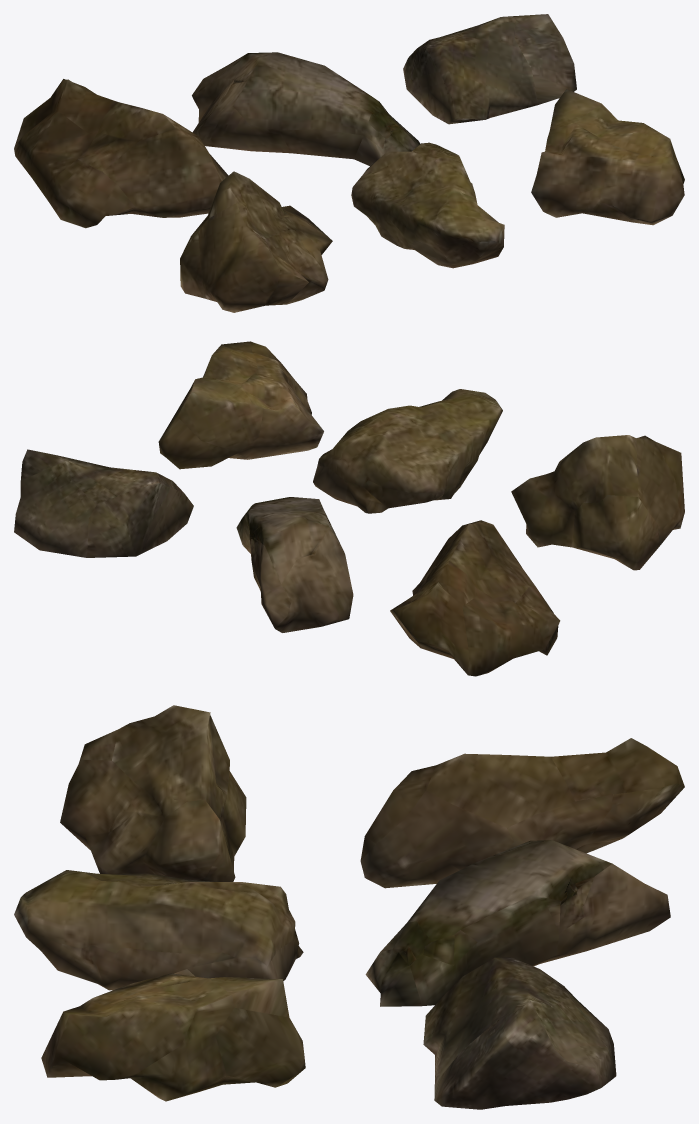
File: rock_moss_set_01.glb
The picture shows the model from 3 angles, top to bottom: view 1: azimuth 30°, elevation 25°; view 2: azimuth 150°, elevation 25°; view 3: azimuth 270°, elevation 25°; orthographic projection. The views are drawn at different scales.
Visible parts, largest first — view 1: rock_moss_set_01_rock01, rock_moss_set_01_rock02, rock_moss_set_01_rock06, rock_moss_set_01_rock04, rock_moss_set_01_rock03, rock_moss_set_01_rock05; view 2: rock_moss_set_01_rock04, rock_moss_set_01_rock01, rock_moss_set_01_rock05, rock_moss_set_01_rock03, rock_moss_set_01_rock06, rock_moss_set_01_rock02; view 3: rock_moss_set_01_rock01, rock_moss_set_01_rock02, rock_moss_set_01_rock05, rock_moss_set_01_rock06, rock_moss_set_01_rock04, rock_moss_set_01_rock03.
Boxes of the visible parts, <box> form: rock_moss_set_01_rock01: <box>14,79,228,228</box>; rock_moss_set_01_rock02: <box>192,52,420,165</box>; rock_moss_set_01_rock06: <box>531,89,684,225</box>; rock_moss_set_01_rock04: <box>180,171,332,312</box>; rock_moss_set_01_rock03: <box>403,14,576,124</box>; rock_moss_set_01_rock05: <box>351,142,504,268</box>; rock_moss_set_01_rock04: <box>511,435,684,570</box>; rock_moss_set_01_rock01: <box>390,520,560,676</box>; rock_moss_set_01_rock05: <box>313,389,502,513</box>; rock_moss_set_01_rock03: <box>14,449,193,557</box>; rock_moss_set_01_rock06: <box>158,341,323,469</box>; rock_moss_set_01_rock02: <box>236,497,353,632</box>; rock_moss_set_01_rock01: <box>360,738,684,888</box>; rock_moss_set_01_rock02: <box>365,840,670,1006</box>; rock_moss_set_01_rock05: <box>14,870,303,990</box>; rock_moss_set_01_rock06: <box>41,969,305,1101</box>; rock_moss_set_01_rock04: <box>60,705,246,881</box>; rock_moss_set_01_rock03: <box>423,957,616,1109</box>.
Bounding box in the file's own units: 7.97 × 1.75 × 6.94.
1 material, 1 textured.
